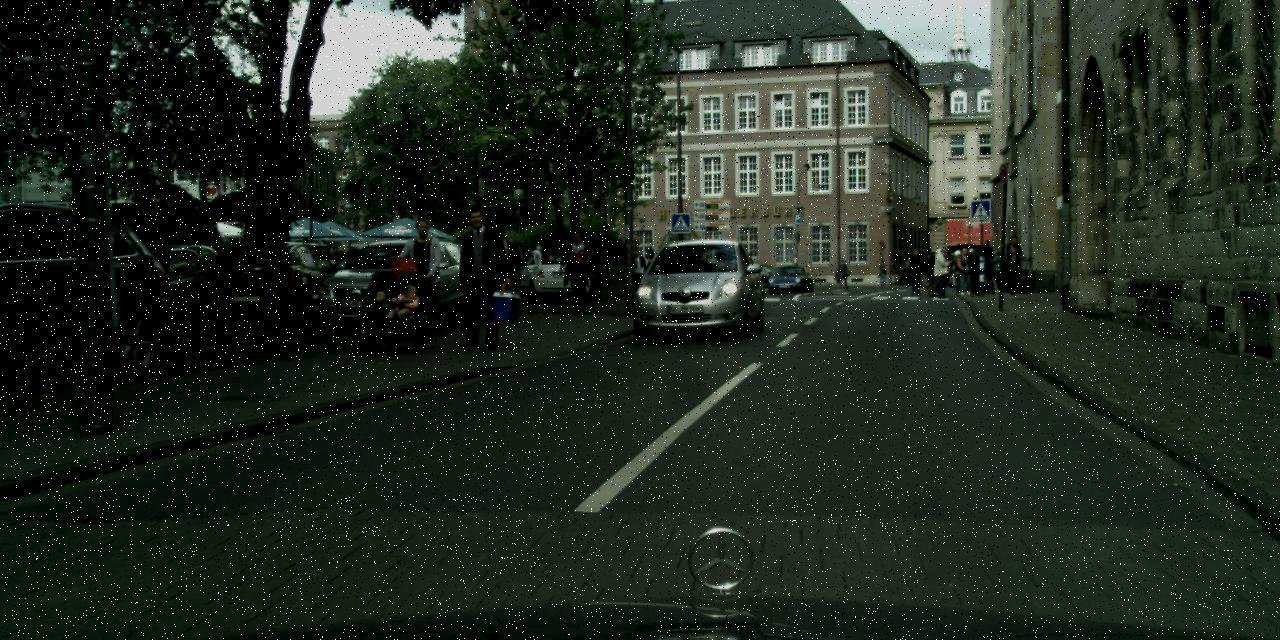ped: (450, 208, 507, 346), (395, 216, 449, 346), (560, 231, 594, 313), (1001, 235, 1027, 297), (951, 245, 978, 297), (506, 237, 526, 297), (628, 249, 648, 301), (641, 249, 661, 298), (931, 248, 950, 296), (906, 248, 924, 294), (924, 251, 940, 293), (989, 249, 1005, 290), (986, 238, 994, 296), (837, 258, 848, 288)
